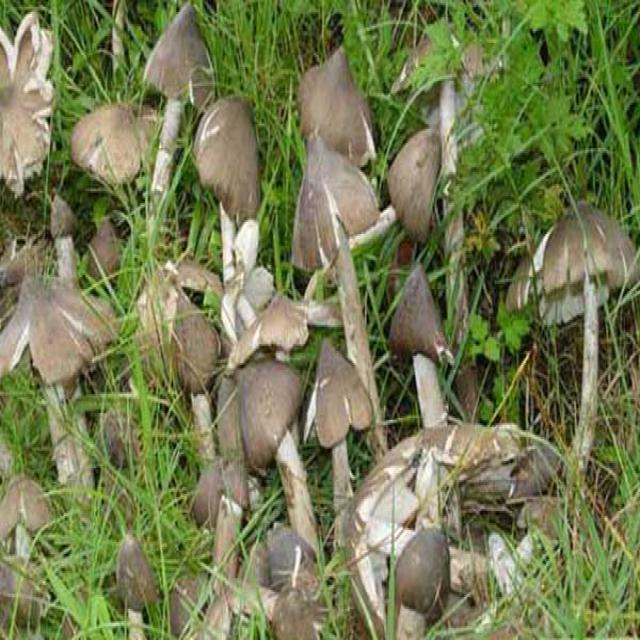Collybia albuminosa: (510, 212, 634, 482), (343, 432, 506, 636), (292, 128, 382, 445), (0, 273, 112, 481), (238, 362, 317, 558), (145, 3, 211, 223), (323, 131, 442, 244), (307, 342, 371, 543), (192, 95, 259, 275), (390, 264, 455, 427), (294, 43, 381, 162), (394, 35, 467, 165), (168, 290, 223, 462), (66, 96, 161, 186), (395, 526, 450, 640), (218, 462, 248, 640), (113, 531, 159, 640), (0, 478, 59, 554)
